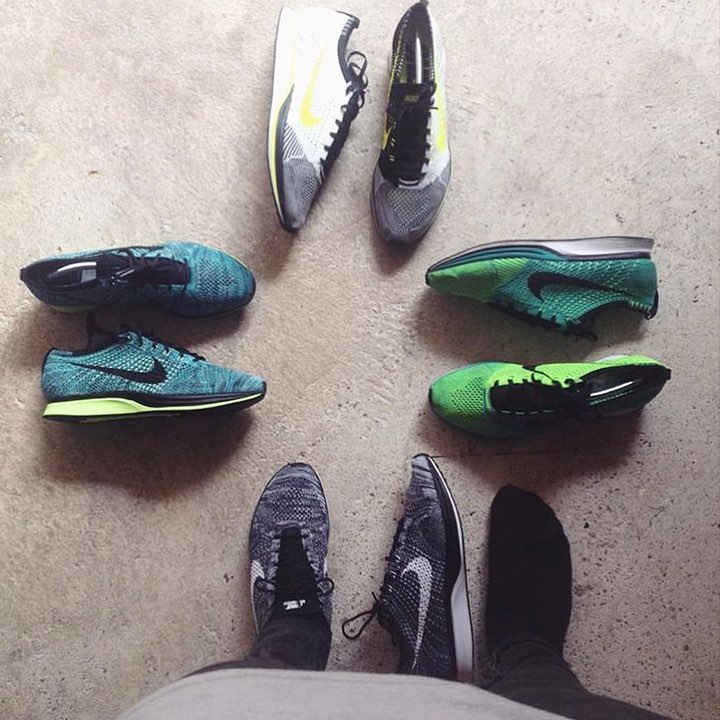sneaker: (213, 442, 355, 679)
